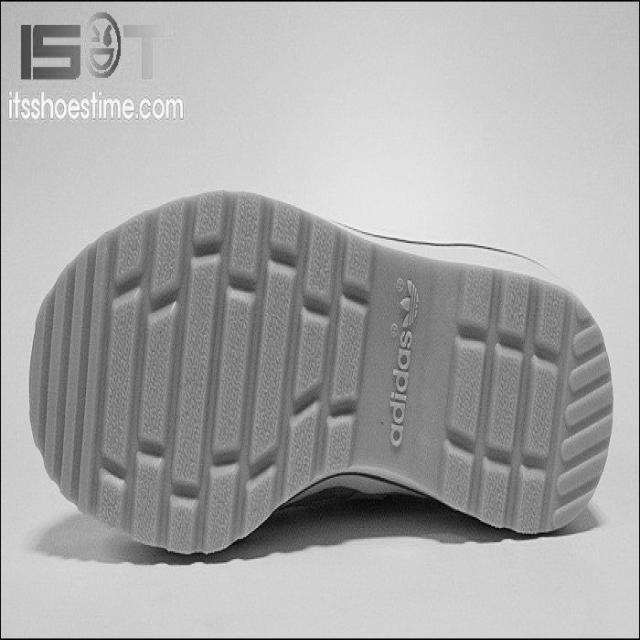Adidas: (397, 268, 422, 338)
